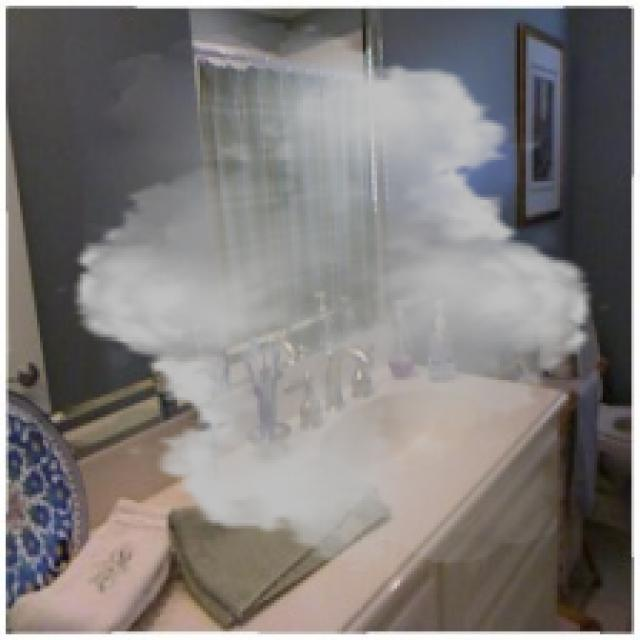smoke: (51, 23, 614, 574)
